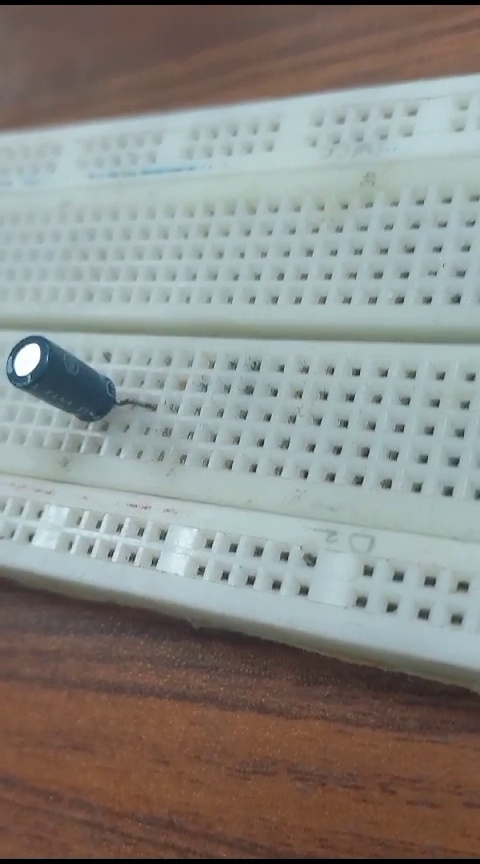capacitor: (8, 329, 126, 432)
